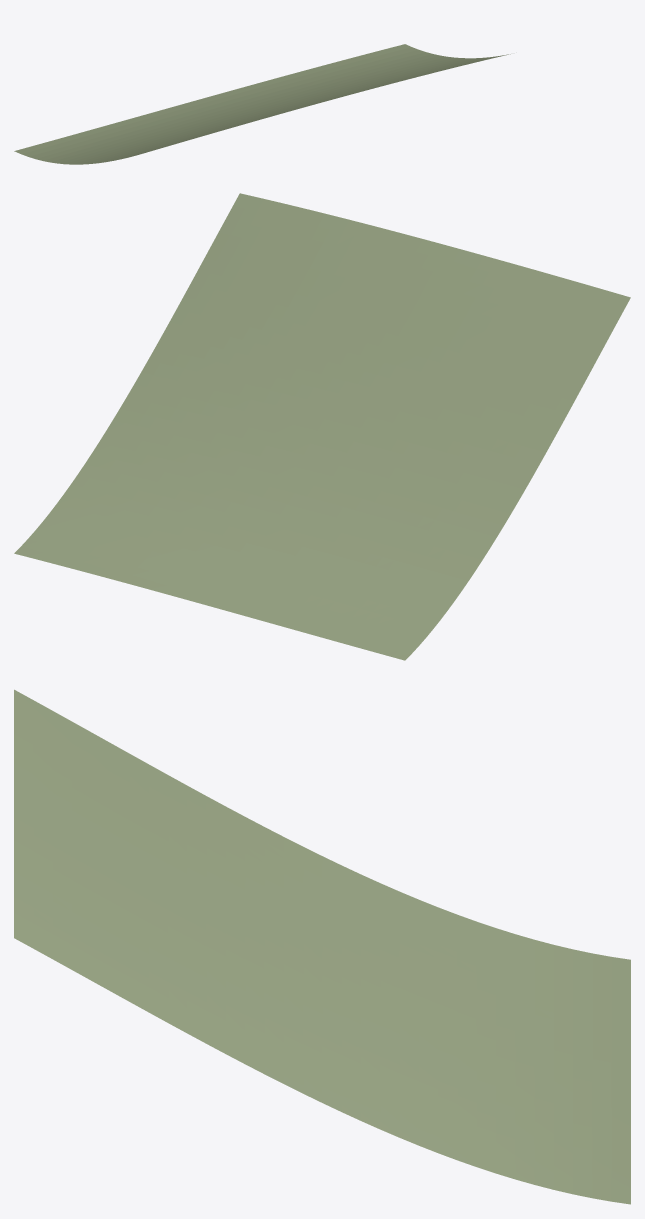
Rendered from expanse-18-1.glb.
The picture shows the model from 3 angles, top to bottom: view 1: azimuth 30°, elevation 25°; view 2: azimuth 150°, elevation 25°; view 3: azimuth 270°, elevation 25°; orthographic projection. The views are drawn at different scales.
Parts seen in each view (by area): view 1: expanse-18-1; view 2: expanse-18-1; view 3: expanse-18-1.
Boxes of the visible parts, bbox=[...] form: expanse-18-1: bbox=[14, 44, 510, 164]; expanse-18-1: bbox=[14, 193, 630, 660]; expanse-18-1: bbox=[14, 689, 630, 1204].
Bounding box in the file's own units: 256 × 130 × 256.
